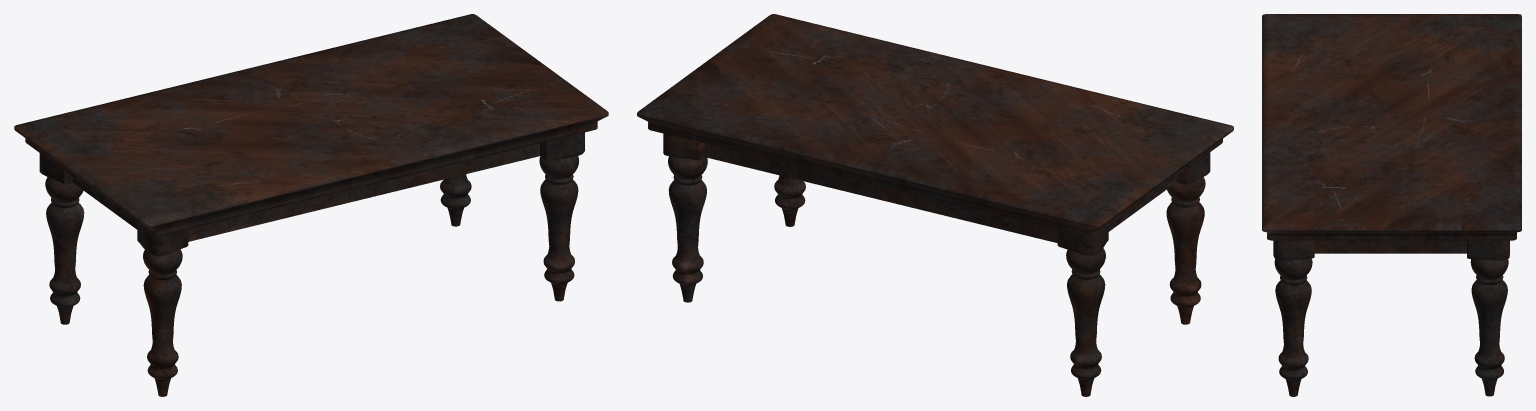
Rendered from table.gltf.
3 renders of one model, left to right at view 1: azimuth 30°, elevation 25°; view 2: azimuth 150°, elevation 25°; view 3: azimuth 270°, elevation 25°, orthographic. The views are drawn at different scales.
Parts seen in each view (by area): view 1: Table_Top, Table_Under, Leg1, Leg3, Leg2, Leg4; view 2: Table_Top, Table_Under, Leg2, Leg4, Leg1, Leg3; view 3: Table_Top, Leg4, Leg3, Table_Under.
Part boxes in pixels (x1,y1,x2,y2): Table_Top: (14, 14, 608, 236); Table_Under: (72, 143, 539, 241); Leg1: (137, 224, 188, 396); Leg3: (539, 132, 584, 301); Leg2: (39, 153, 84, 324); Leg4: (440, 174, 471, 226); Table_Top: (637, 14, 1233, 237); Table_Under: (704, 143, 1176, 242); Leg2: (1057, 227, 1108, 396); Leg4: (663, 133, 707, 302); Leg1: (1166, 152, 1210, 324); Leg3: (774, 175, 805, 226); Table_Top: (1262, 14, 1521, 240); Leg4: (1467, 240, 1509, 396); Leg3: (1273, 240, 1314, 396); Table_Under: (1314, 240, 1466, 253).
Size of the model in its own units: 2 by 0.7979 by 1.02.
6 materials, 6 textured.
